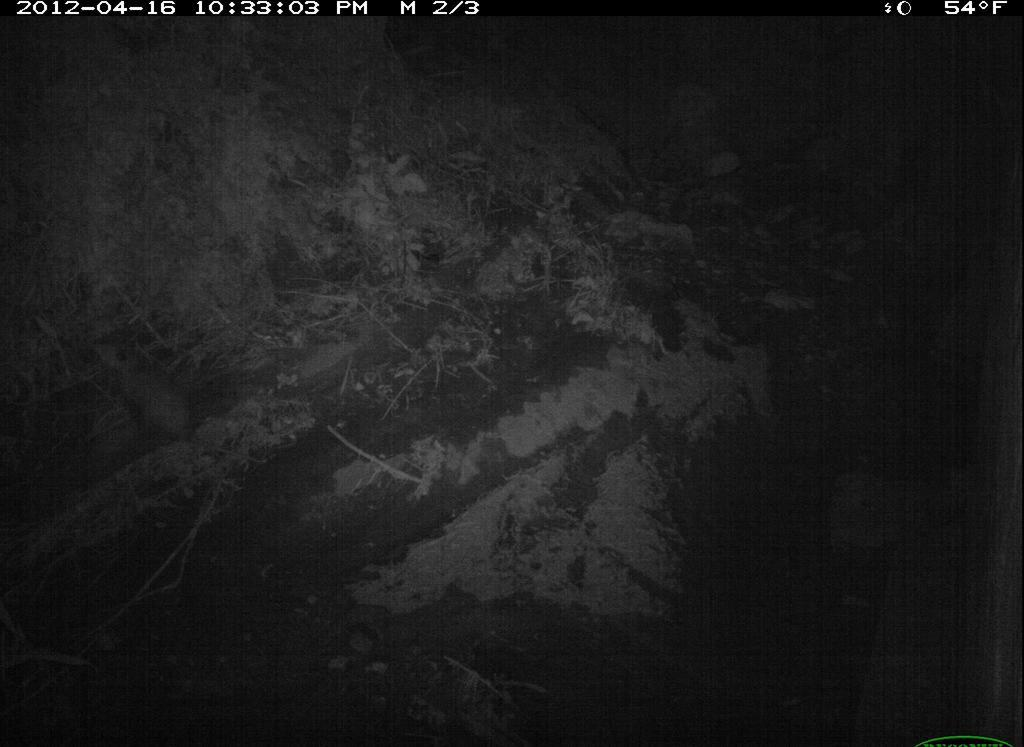opossum: (98, 340, 277, 472)
